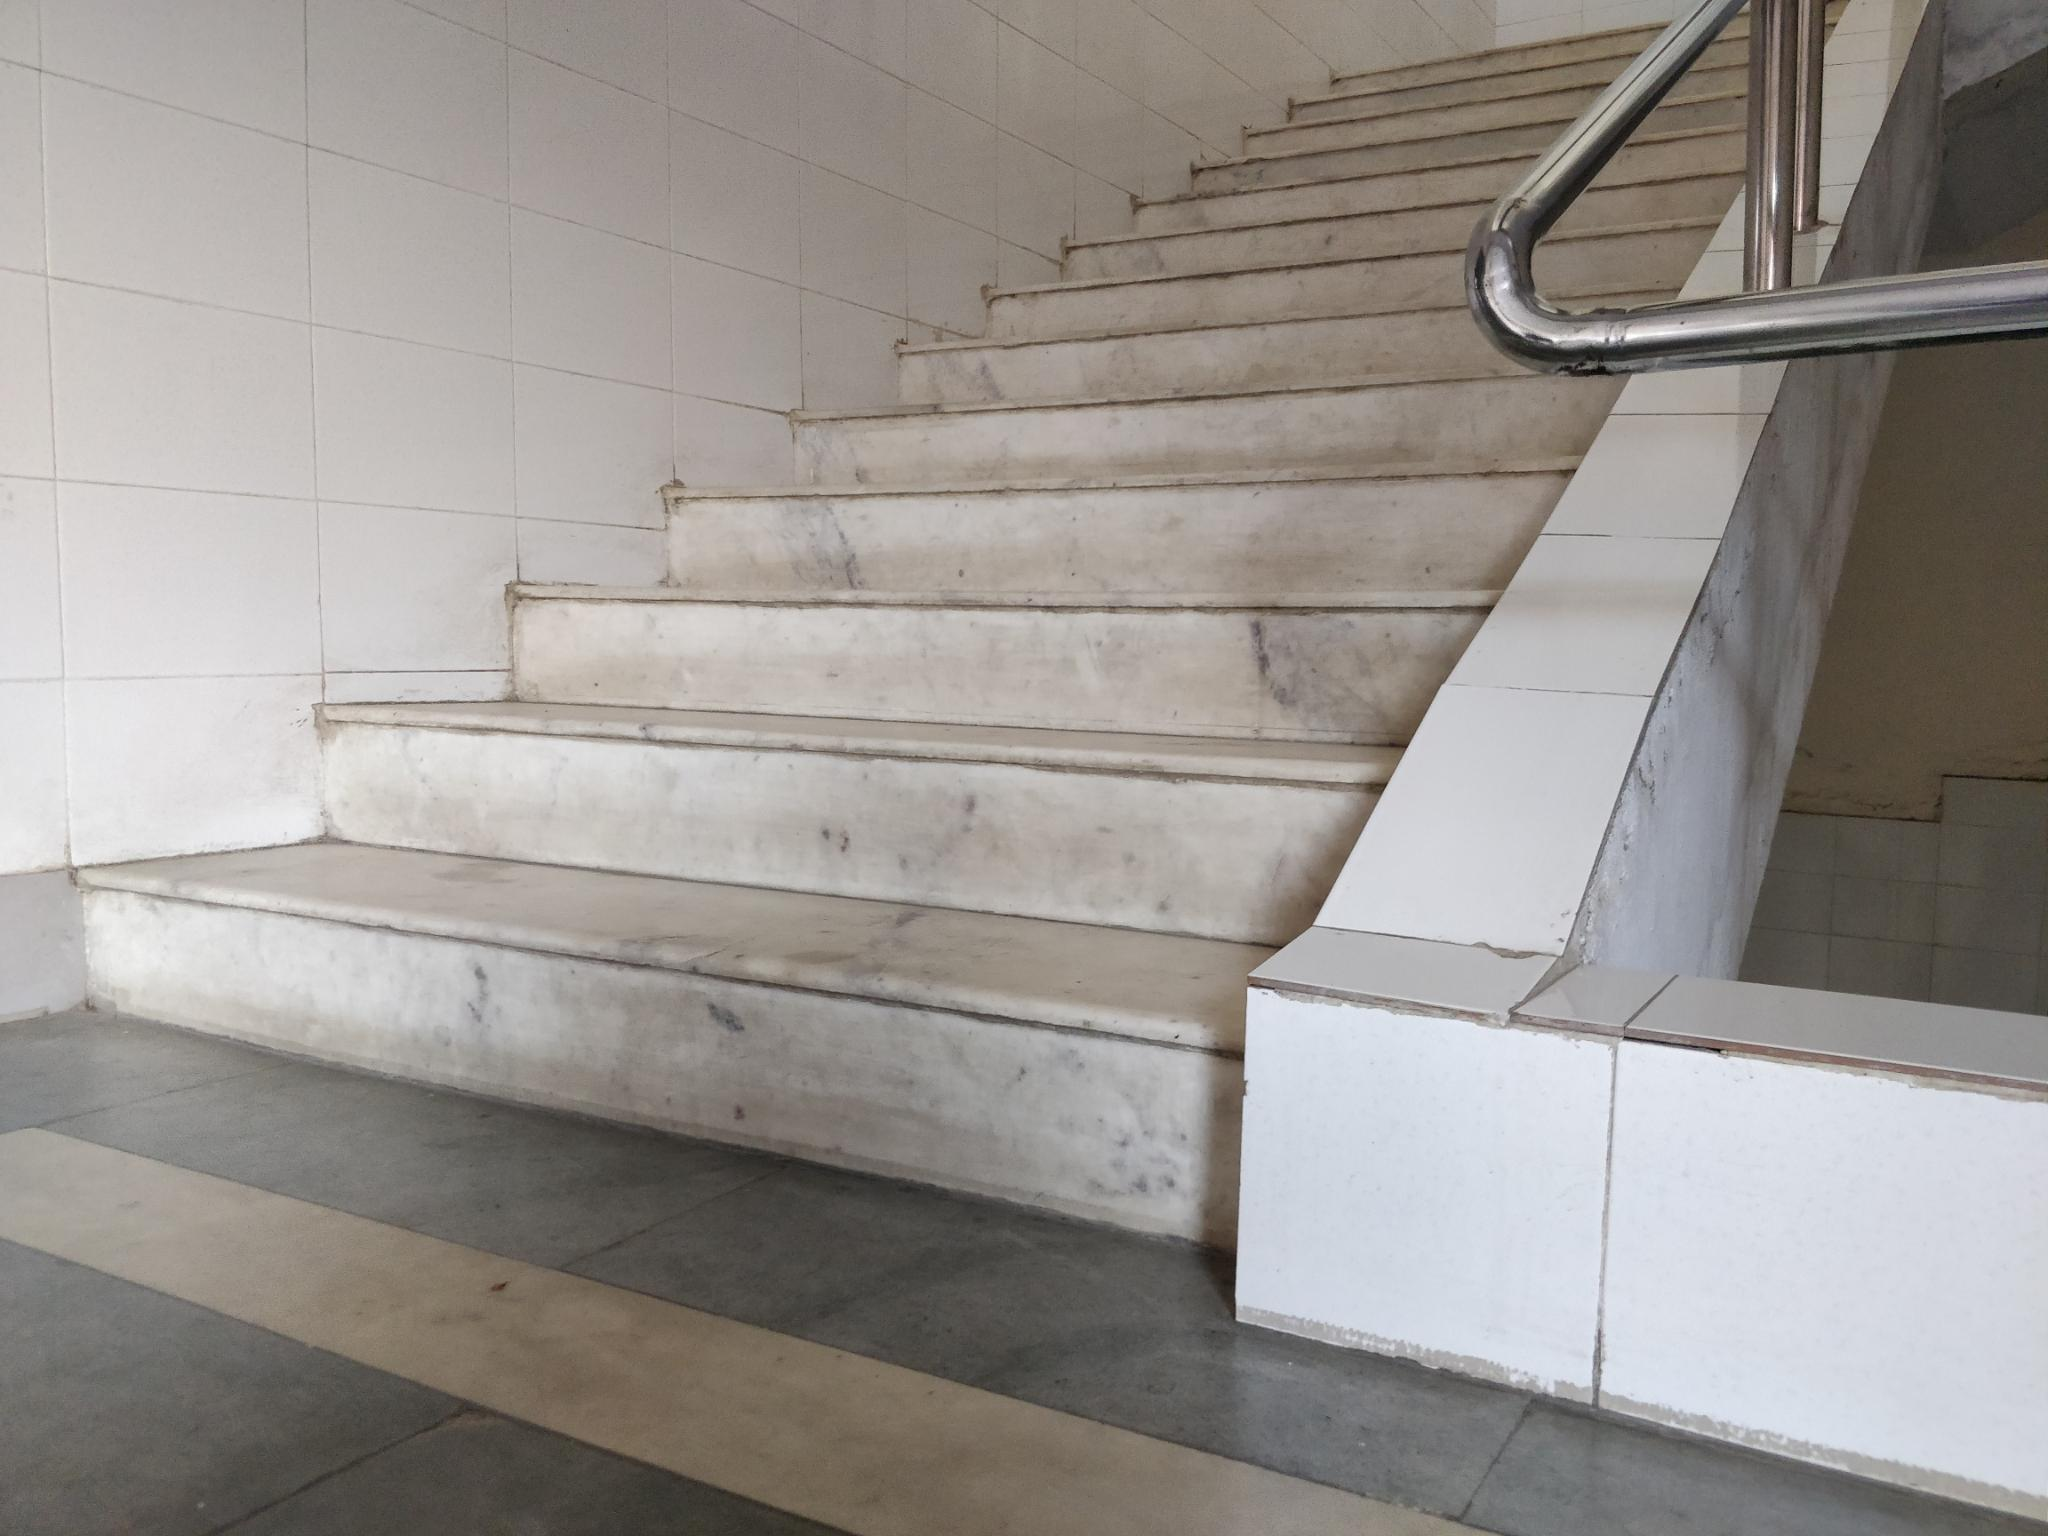Bench: (77, 0, 1755, 1339)
